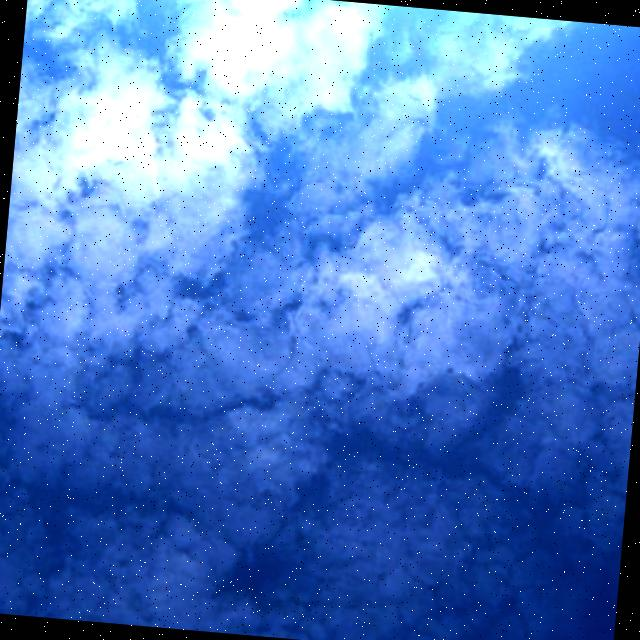Ac: (1, 13, 640, 631)
